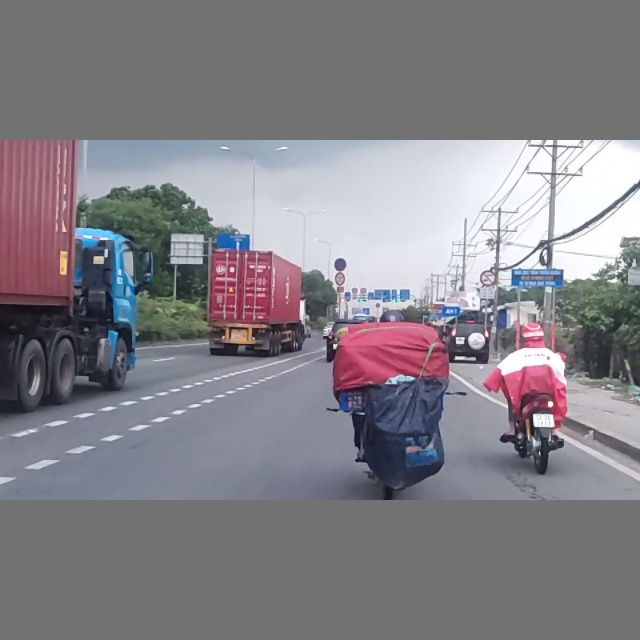P.107: (481, 270, 496, 287)
P.111: (335, 272, 345, 286)
P.130: (333, 257, 347, 271)
